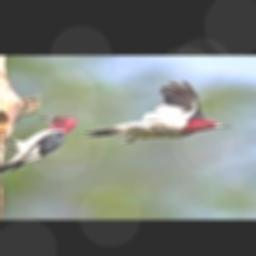Woodpecker: (81, 80, 232, 142), (0, 115, 78, 178)
